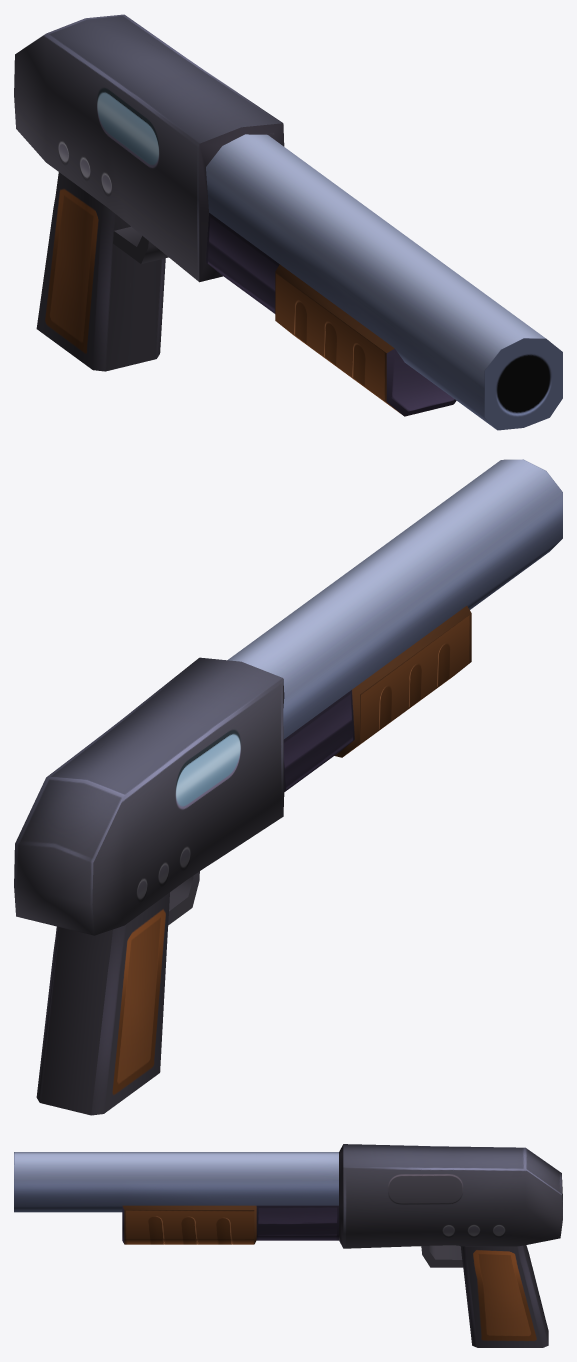
The model's file is Shotgun.fbx.
The picture shows the model from 3 angles, top to bottom: view 1: azimuth 30°, elevation 25°; view 2: azimuth 150°, elevation 25°; view 3: azimuth 270°, elevation 25°; orthographic projection. The views are drawn at different scales.
Visible parts, largest first — view 1: ShotgunModel; view 2: ShotgunModel; view 3: ShotgunModel.
Part boxes in pixels (<box>): ShotgunModel: <box>14,14,562,430</box>; ShotgunModel: <box>14,459,562,1115</box>; ShotgunModel: <box>14,1144,562,1347</box>.
Bounding box in the file's own units: 11.53 × 41.43 × 111.
